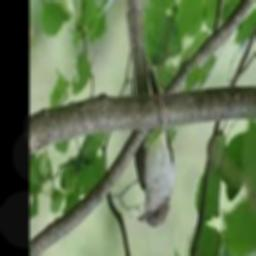Cuckoo: (127, 0, 175, 228)
